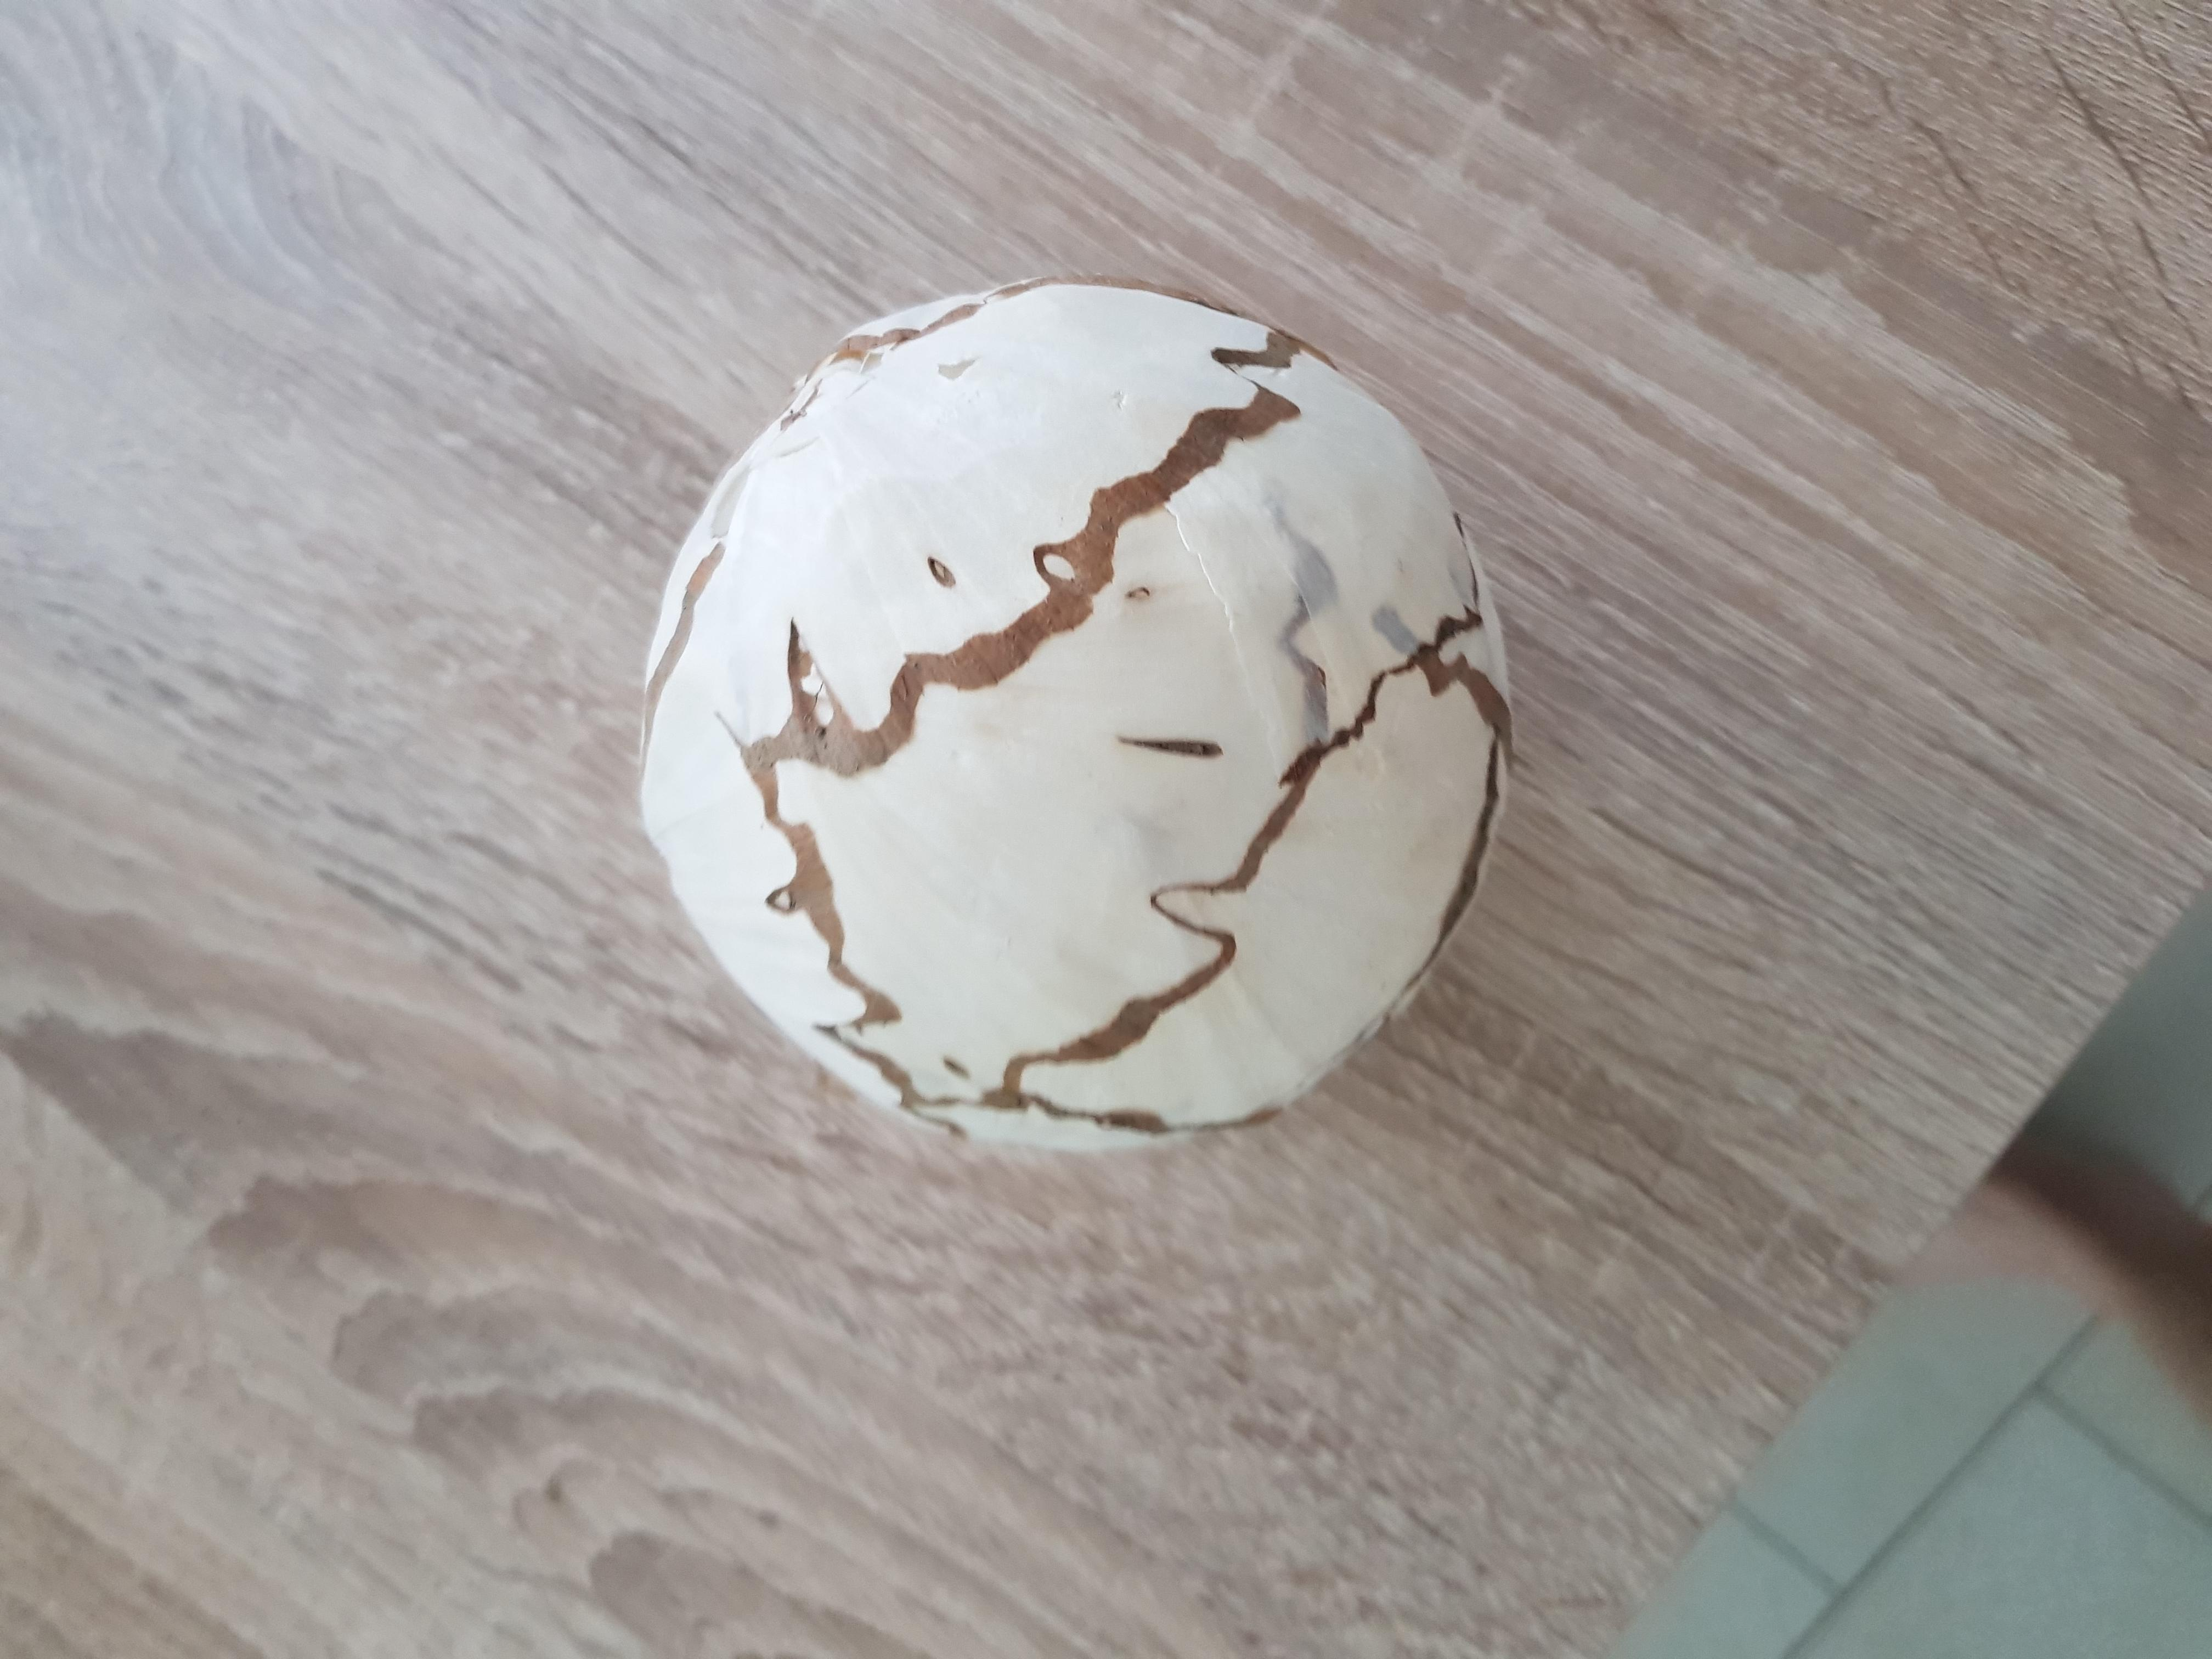sphere: (632, 272, 1508, 1166)
